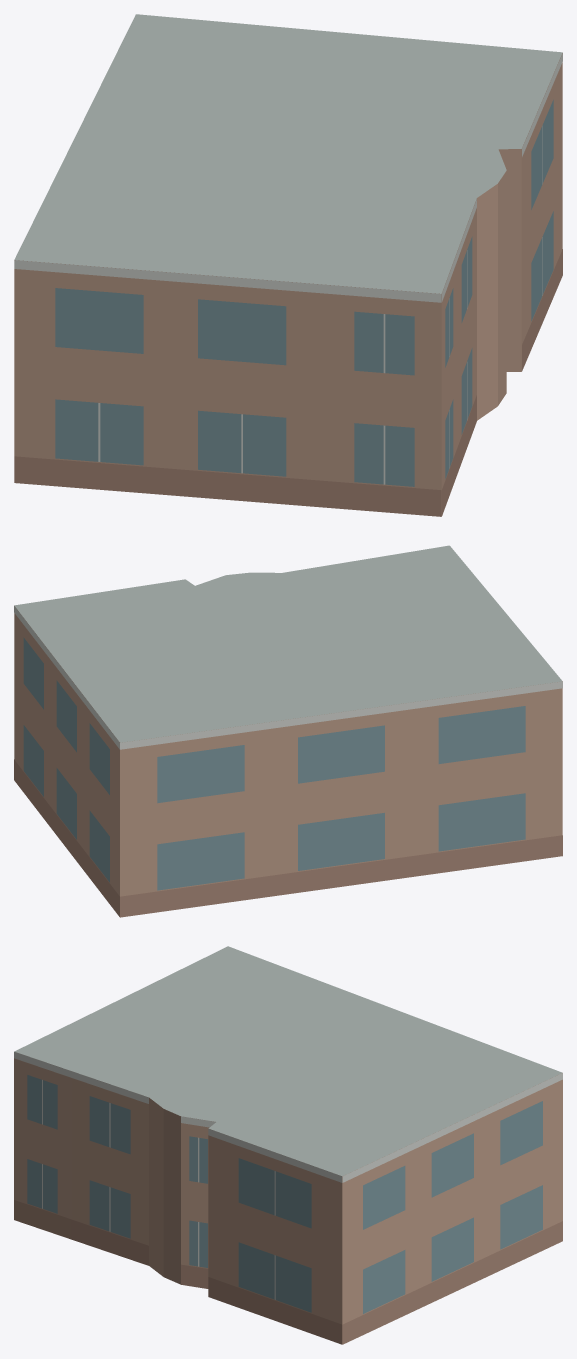
Rendered from survey-upis-32624885.glb.
3 views of the same model, one above another, from view 1: azimuth 30°, elevation 25°; view 2: azimuth 150°, elevation 25°; view 3: azimuth 270°, elevation 25° (orthographic). The views are drawn at different scales.
Parts seen in each view (by area): view 1: survey-upis-32624885.tmp; view 2: survey-upis-32624885.tmp; view 3: survey-upis-32624885.tmp.
Boxes of the visible parts, x1,y1,x2,y2 form: survey-upis-32624885.tmp: [14, 14, 562, 516]; survey-upis-32624885.tmp: [14, 545, 562, 917]; survey-upis-32624885.tmp: [14, 946, 562, 1344].
Bounding box in the file's own units: 17.89 × 6.1 × 18.02.
